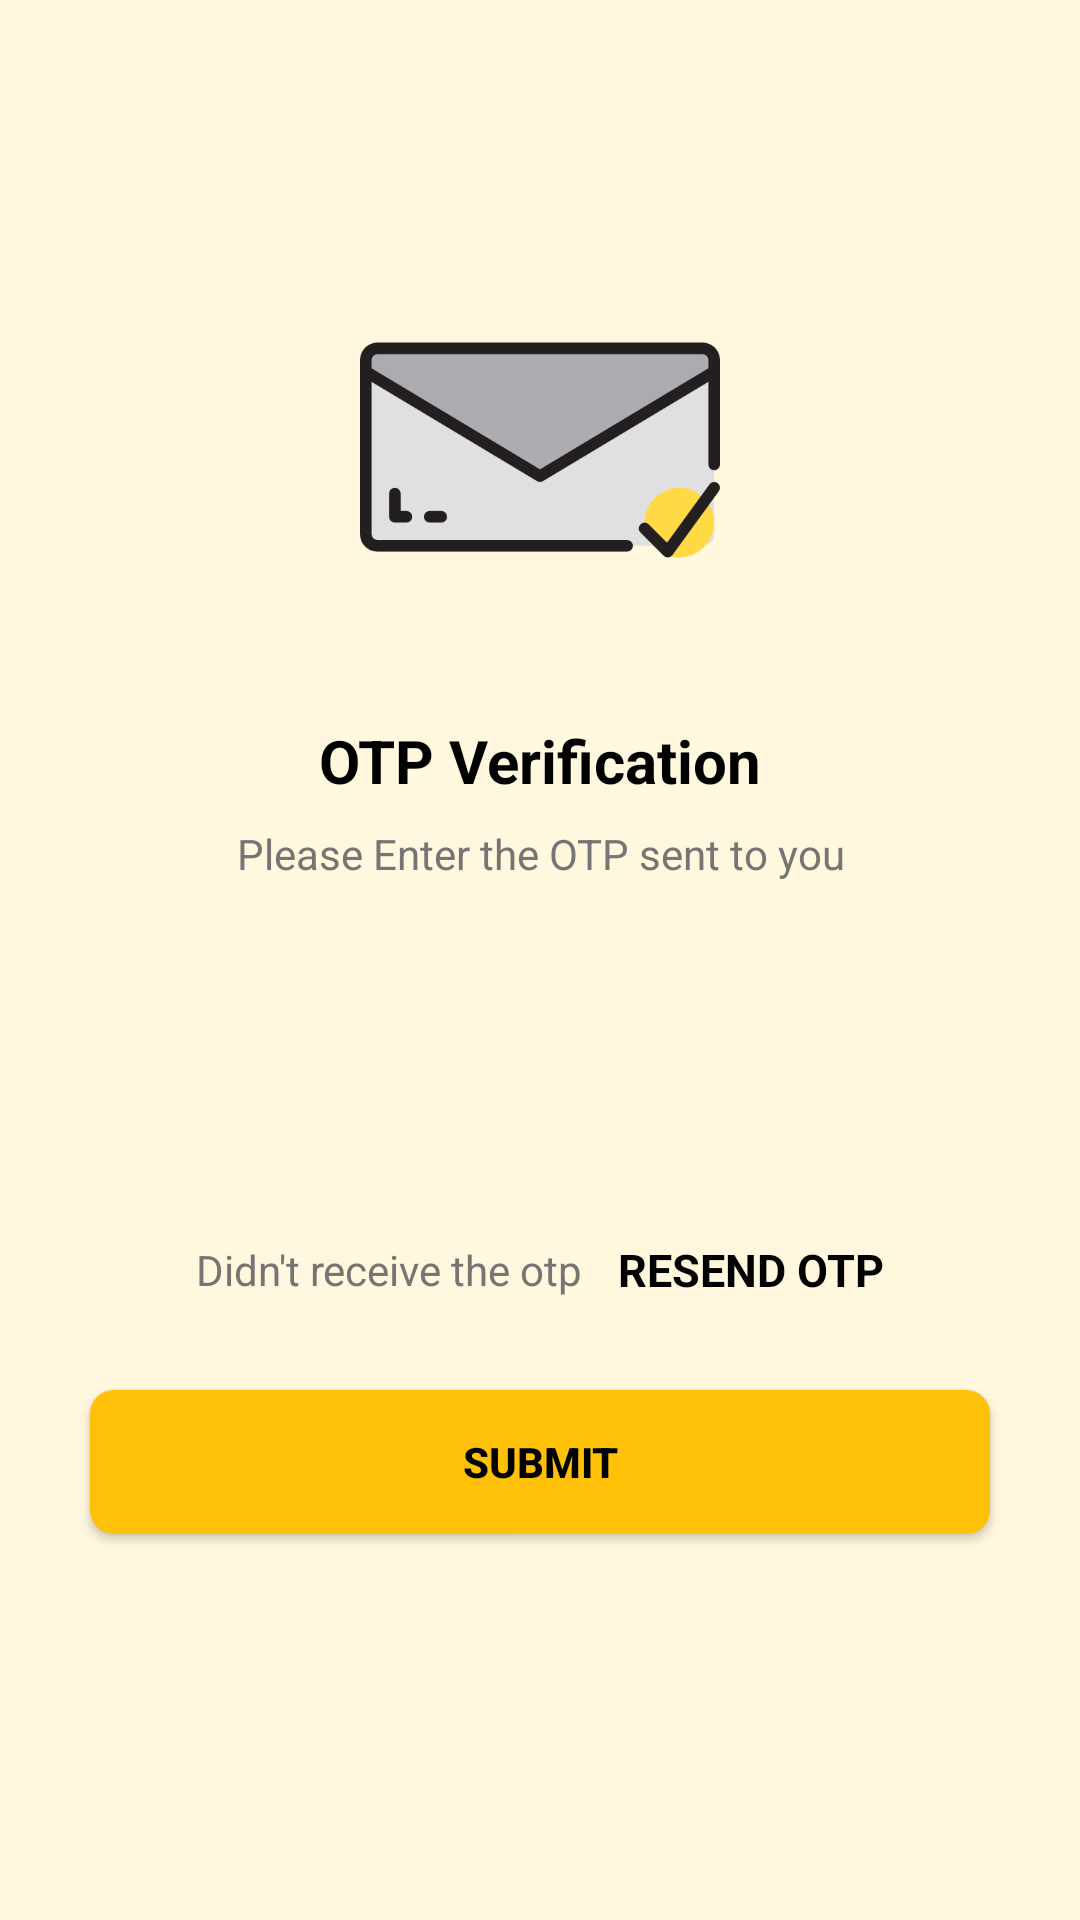

Icon bounding boxes for this 1080px×1920px phone screenshot, format (x1, y1, x2, y2):
recivedmail: (360, 342, 720, 558)
